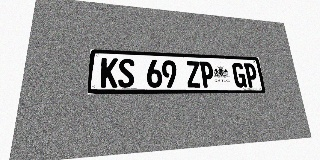6: (147, 59, 162, 88)
9: (162, 60, 177, 88)
G: (232, 63, 247, 87)
K: (100, 58, 118, 88)
P: (199, 61, 215, 87), (243, 63, 259, 87)
S: (118, 58, 134, 88)
Z: (186, 61, 201, 88)
